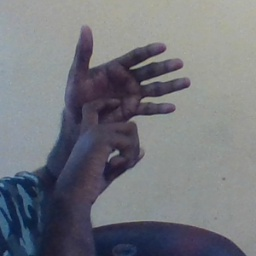R: (56, 23, 198, 183)
